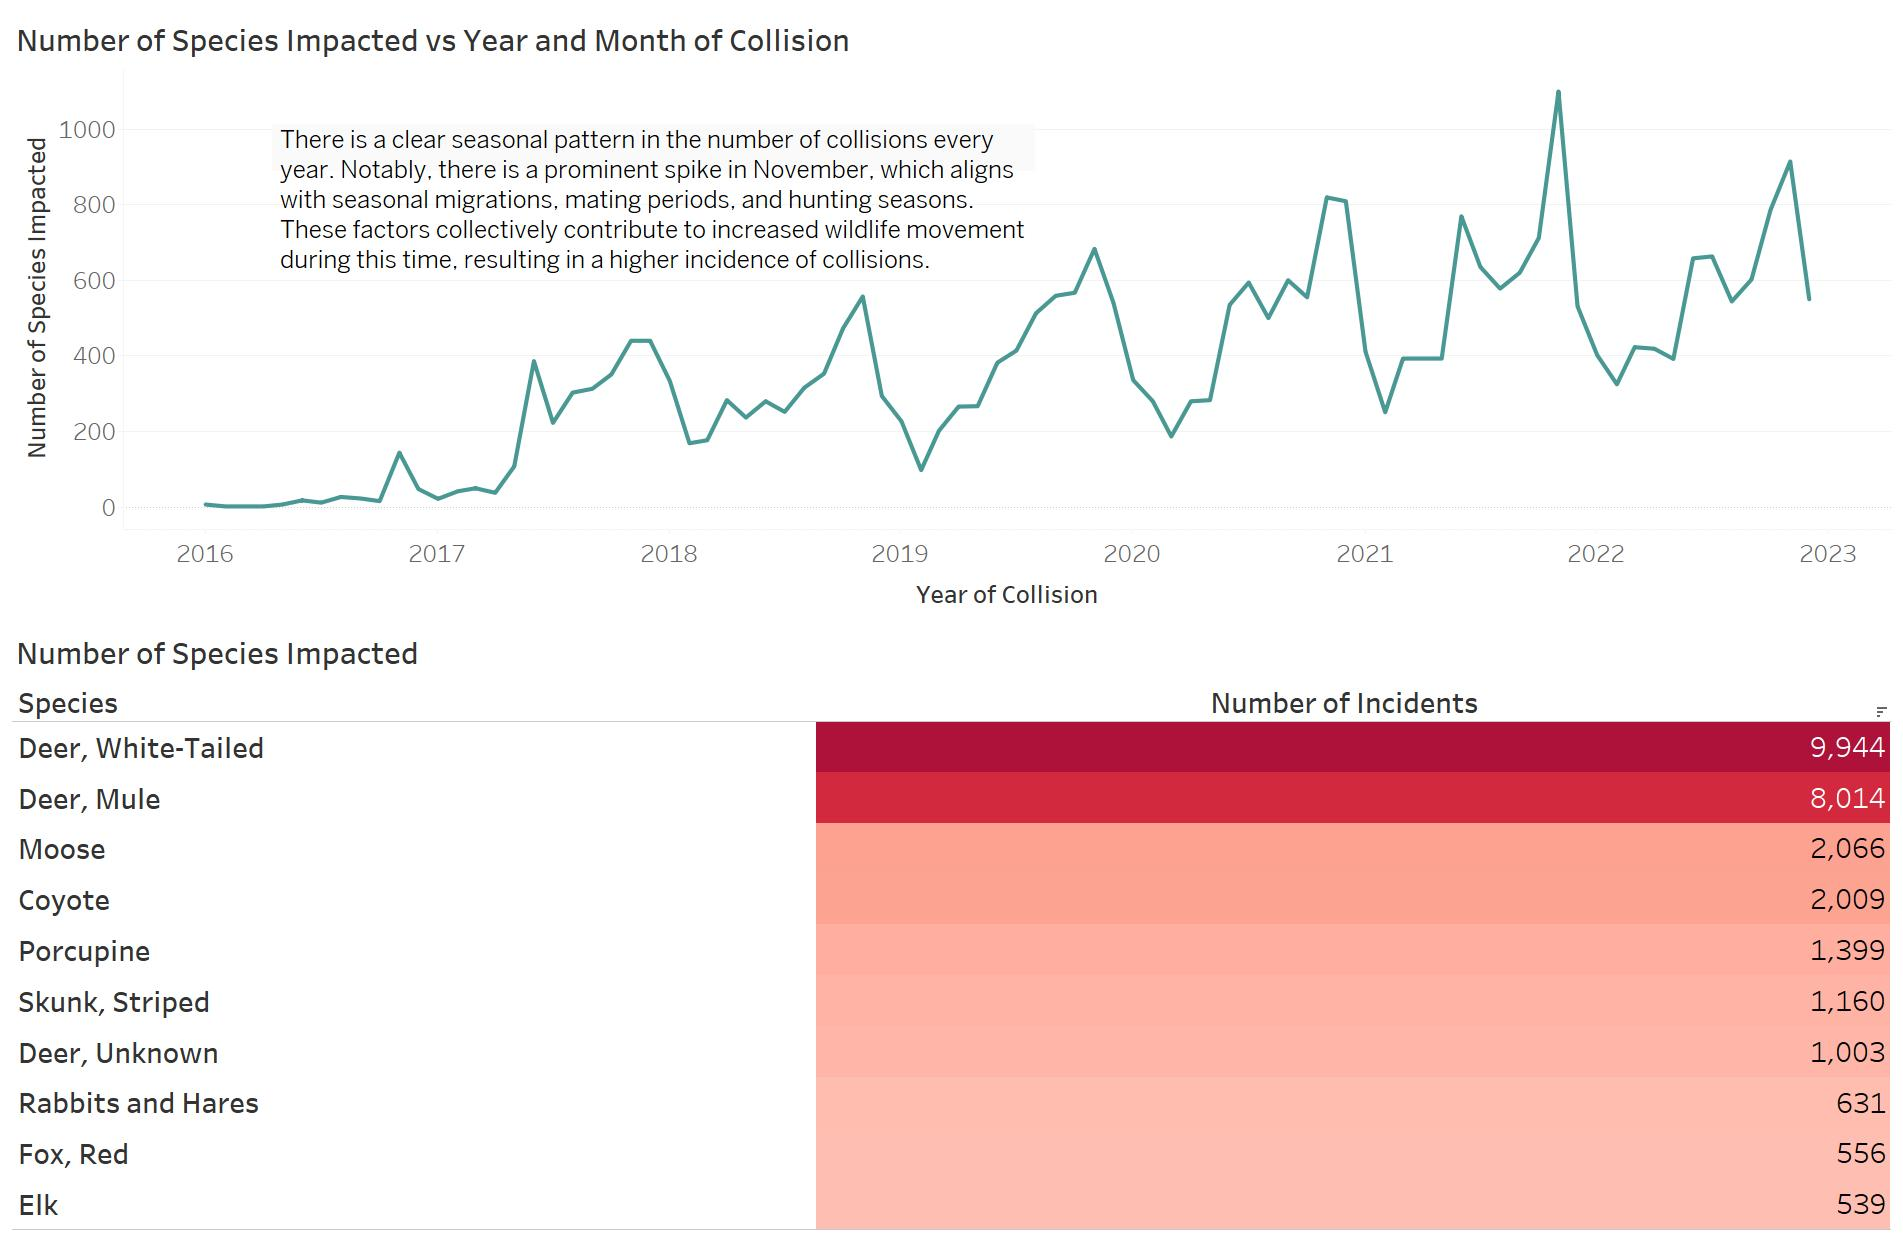

Layout of this report page (visuals, bound fields, positions):
{"tool":"tableau","page":{"name":"Species Impacted Analysis","canvas":[1000,1000],"units":"permille","ordinal":1},"visuals":[{"type":"worksheet","title":"Number of Species Impacted vs Year and Month of Collision","mark":"Automatic","rows":["Species"],"cols":["Calculation_1094093253131382784"],"box":[4.1,6.4,991.8,493.6]},{"type":"worksheet","title":"Number of Species Impacted","mark":"Square","rows":["Species"],"box":[4.1,500,991.8,493.6]}]}

Visuals, with their boxes on the dashboard's canvas, which has no fixed pixel size, in thousandths of its width and height (x1, y1, x2, y2). These are canvas units, not pixel positions in the 1903x1242 screenshot, which may show the page scaled, cropped or inside an application window:
"Number of Species Impacted vs Year and Month of Collision" worksheet: [left=4, top=6, right=996, bottom=500]
"Number of Species Impacted" worksheet (Square marks): [left=4, top=500, right=996, bottom=994]
